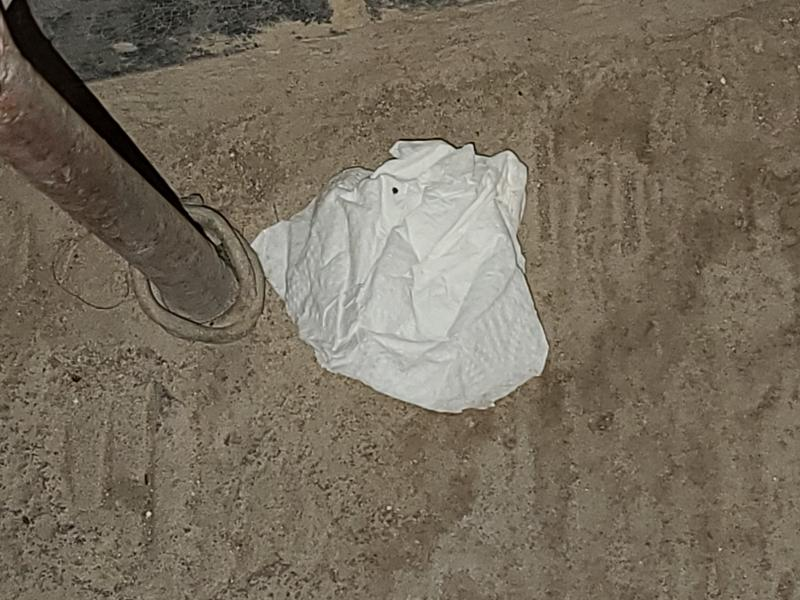papel: (249, 140, 550, 415)
